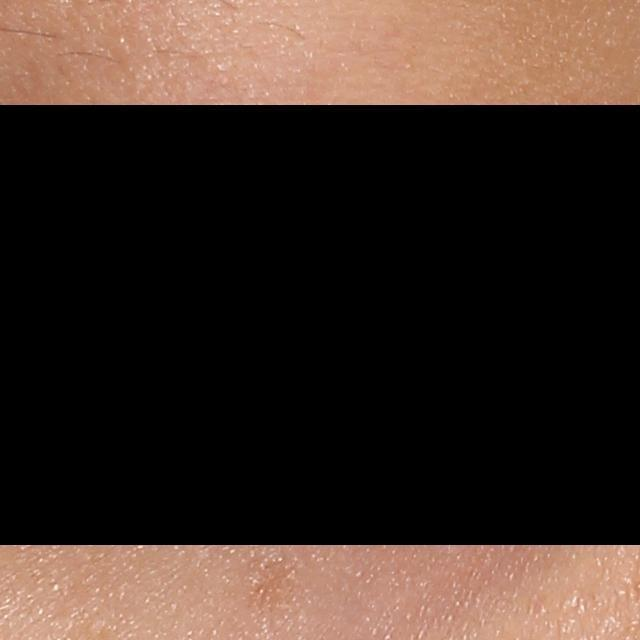melasma: (242, 556, 294, 621)
